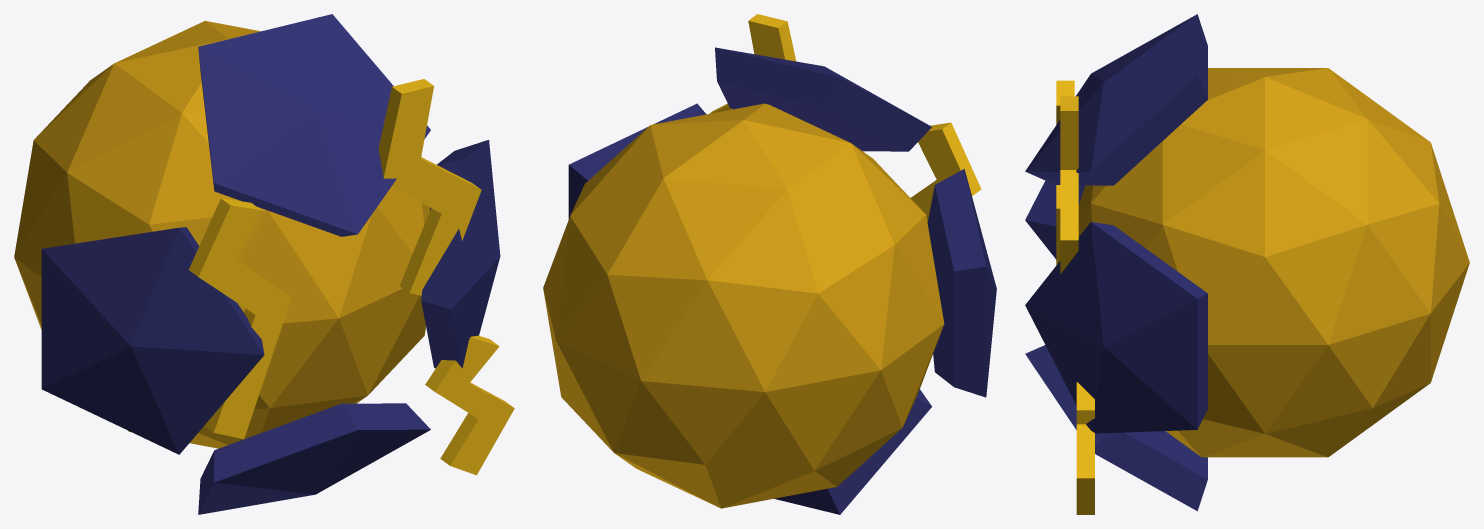
File: Ball_07.fbx
The picture shows the model from 3 angles, left to right: view 1: azimuth 30°, elevation 25°; view 2: azimuth 150°, elevation 25°; view 3: azimuth 270°, elevation 25°; orthographic projection. The views are drawn at different scales.
Parts seen in each view (by area): view 1: Ball_07_ThunderSplit_Body; view 2: Ball_07_ThunderSplit_Body; view 3: Ball_07_ThunderSplit_Body.
Part boxes in pixels (box(x1,y1,x2,y2)): Ball_07_ThunderSplit_Body: box(14, 14, 514, 514); Ball_07_ThunderSplit_Body: box(543, 14, 996, 514); Ball_07_ThunderSplit_Body: box(1025, 14, 1469, 514).
Bounding box in the file's own units: 235 × 235 × 217.
Materials: 1 (1 with a texture image).
